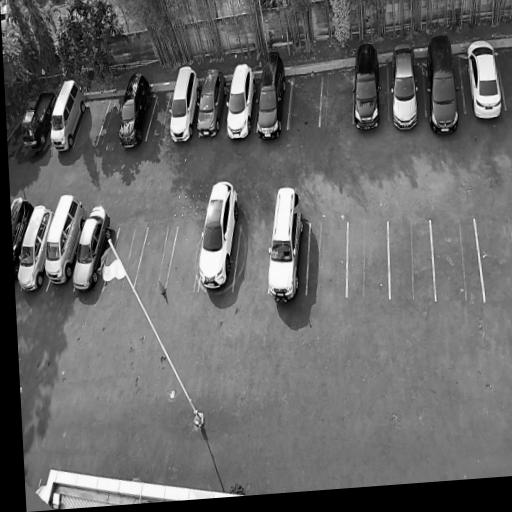Car: (195, 175, 244, 292), (265, 183, 306, 301), (45, 189, 88, 289), (68, 201, 114, 290), (424, 33, 463, 133), (463, 33, 505, 122), (16, 201, 54, 293), (255, 49, 289, 141), (117, 69, 156, 148), (50, 78, 89, 154), (224, 59, 258, 141), (353, 38, 382, 132), (169, 63, 203, 143), (389, 42, 419, 131), (195, 66, 230, 139), (21, 85, 57, 153), (11, 194, 35, 283)
Space Available: (431, 218, 483, 302), (389, 219, 434, 300), (348, 222, 389, 299), (475, 219, 512, 302), (307, 221, 347, 297), (233, 222, 272, 292), (135, 226, 177, 288), (167, 224, 203, 286), (114, 225, 148, 288), (320, 70, 354, 127), (287, 76, 322, 129), (73, 98, 110, 146), (97, 98, 124, 144), (146, 93, 173, 139), (496, 47, 512, 110)
